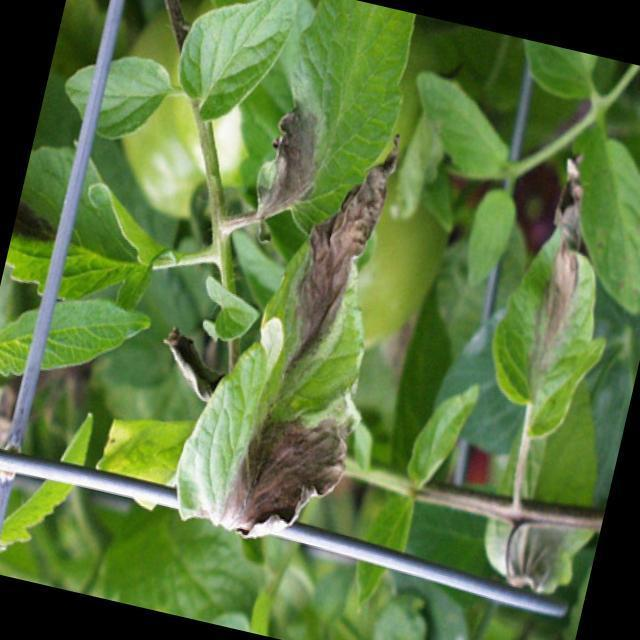Healthy Leaf: (0, 280, 160, 414), (166, 0, 304, 140), (52, 40, 176, 152)
